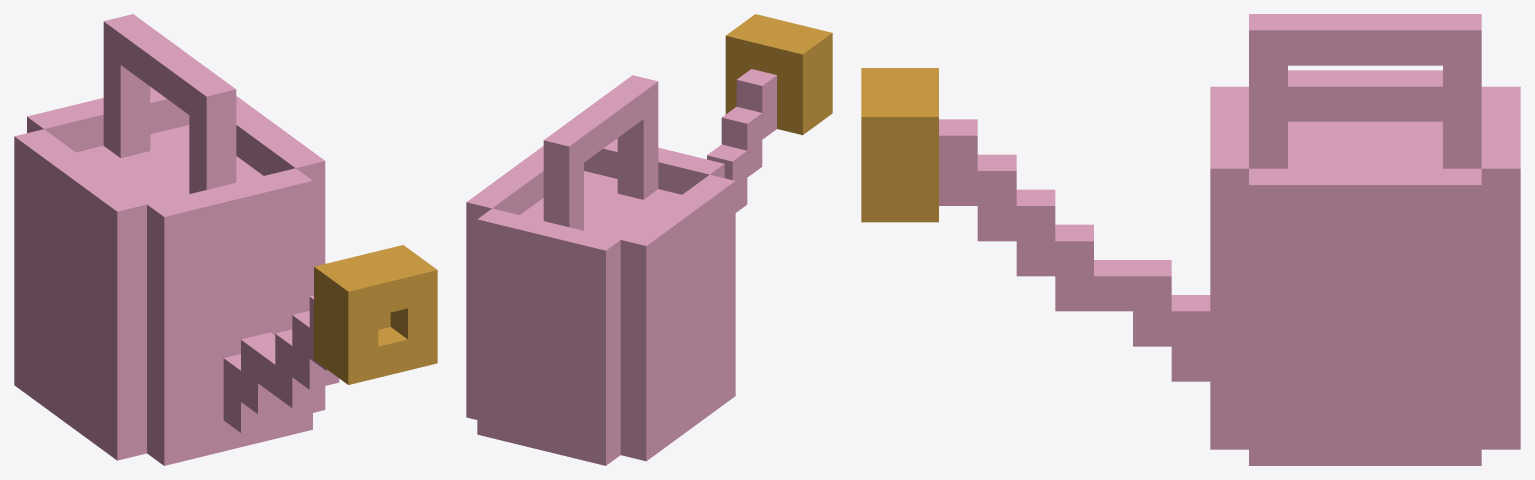
File: angie-acc10.fe8af04c.glb
3 views of the same model, side by side, from view 1: azimuth 30°, elevation 25°; view 2: azimuth 150°, elevation 25°; view 3: azimuth 270°, elevation 25° (orthographic). The views are drawn at different scales.
Visible parts, largest first — view 1: regadera, roseta; view 2: regadera, roseta; view 3: regadera, roseta.
Boxes of the visible parts, x1,y1,x2,y2 form: regadera: [14, 14, 339, 465]; roseta: [314, 245, 437, 384]; regadera: [466, 69, 776, 465]; roseta: [725, 14, 832, 135]; regadera: [939, 14, 1520, 465]; roseta: [861, 68, 938, 222].
Bounding box in the file's own units: 0.126 × 0.198 × 0.306.
